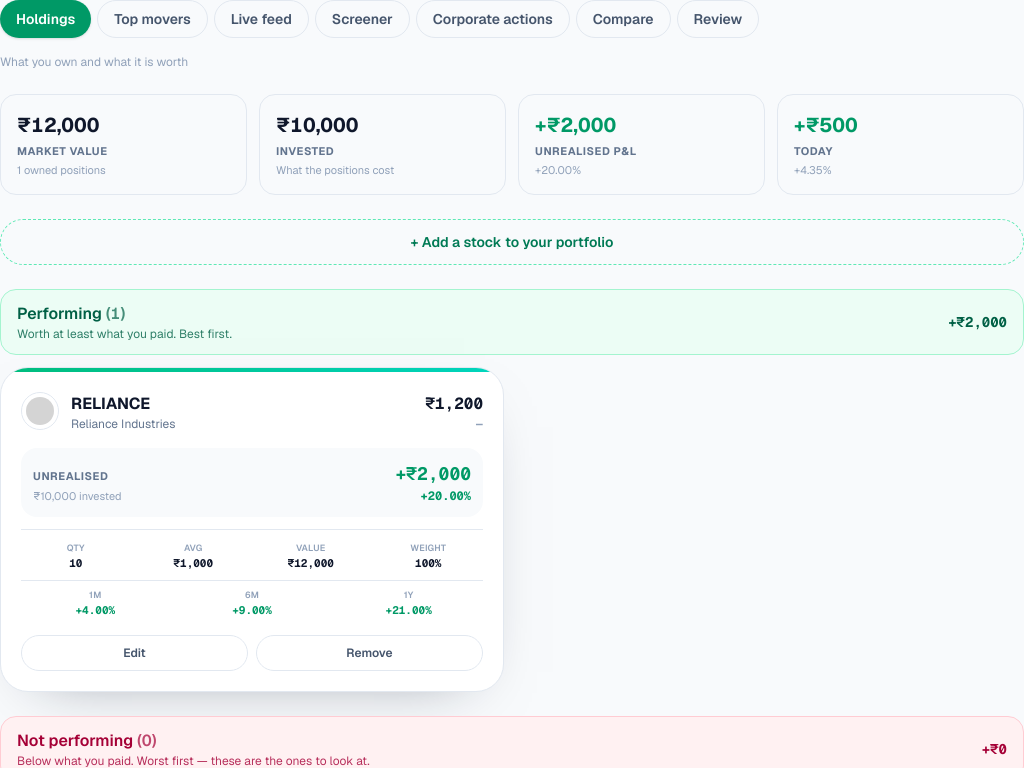
it: PortfolioWorkspace › copes with a removal that answers without a portfolio in it
Expected: the text "₹1,200" is shown, [425,392,483,416]
Click the button with aria-label "Remove RELIANCE from portfolio" at (370, 652), box [256,634,483,670]
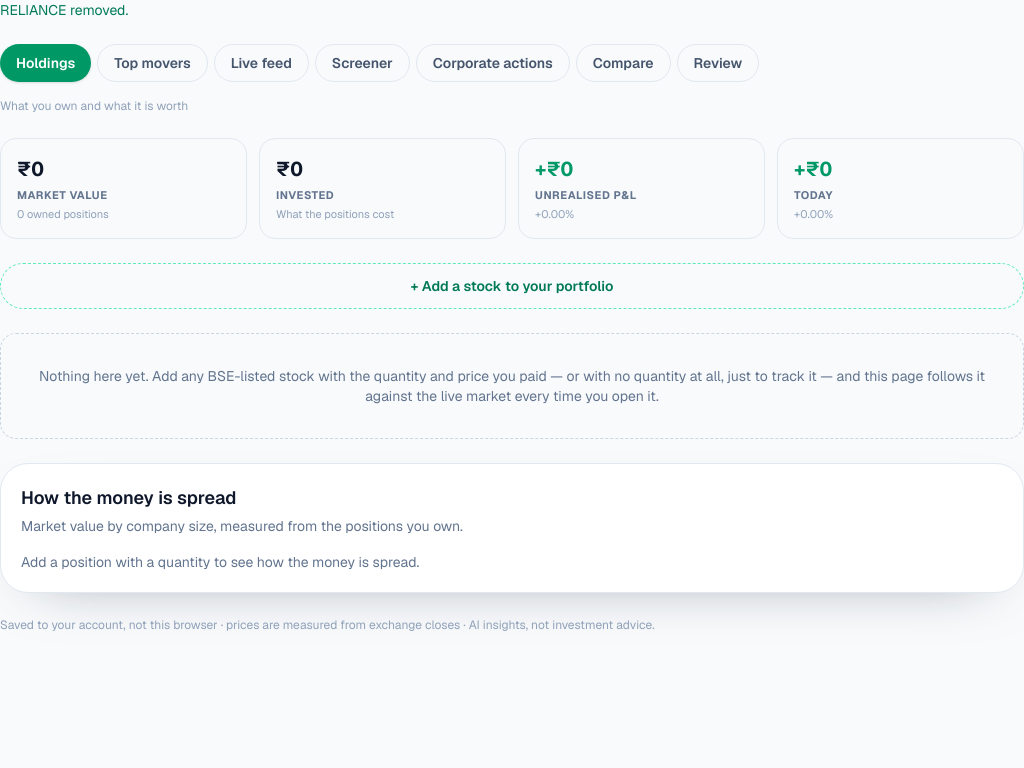
Expected: the text "Nothing here yet" is shown, [39,367,985,405]
